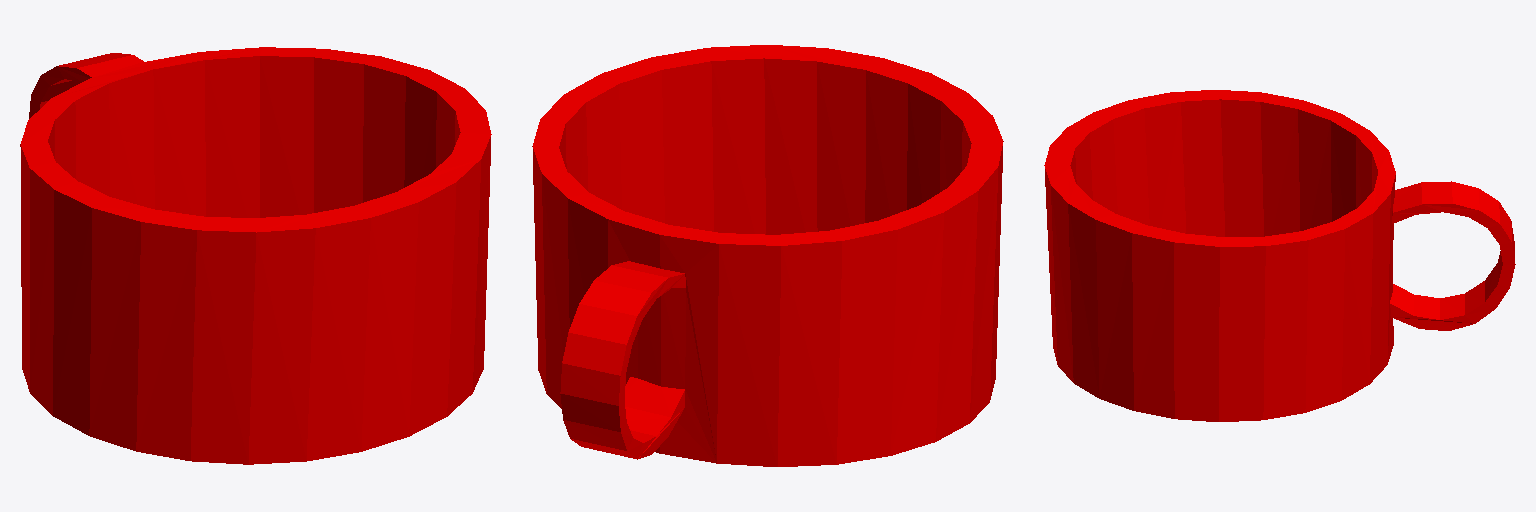
URDF robot description (tmp.urdf):
<?xml version="1.0" ?>
<robot name="tmp.urdf">
  <link name="baseLink">
    <inertial>
      <origin rpy="0 0 0" xyz="0 0 0"/>
       <mass value=".1"/>
       <inertia ixx="1" ixy="0" ixz="0" iyy="1" iyz="0" izz="1"/>
    </inertial>
    <contact>
      <lateral_friction value="1.0"/>
      <inertia_scaling value="3.0"/>
    </contact>
    <visual>
      <origin rpy="0 0 0" xyz="0 0 0"/>
      <geometry>
        <mesh filename="tmp_source_0.stl" scale="1 1 1" />
      </geometry>
      <material name="red">
        <color rgba="1 0 0 1"/>
      </material>
    </visual>
    <collision>
      <origin rpy="0 0 0" xyz="0 0 0"/>
      <geometry>
        <mesh filename="tmp_source_0.obj" scale="1 1 1" />
      </geometry>
    </collision>
  </link>
</robot>

--- What the picture shows (computed from the rendered views, not written in the file) ---
Views: 3 orthographic renders of the robot side by side, from view 1: azimuth 30°, elevation 25°; view 2: azimuth 150°, elevation 25°; view 3: azimuth 270°, elevation 25°.
Robot: tmp.urdf — 1 links, 0 joints (none); root link baseLink; default pose: all joints at 0.
Links seen in each view (by area): view 1: baseLink; view 2: baseLink; view 3: baseLink.
Link boxes in pixels (bbox=[...]): baseLink: bbox=[20, 47, 491, 464]; baseLink: bbox=[532, 45, 1003, 466]; baseLink: bbox=[1044, 90, 1515, 421].
Bounding box of the posed robot: 0.1047 × 0.1336 × 0.0574 m (x, y, z).
1 mesh visuals loaded from 1 distinct referenced files (1 binary STL).